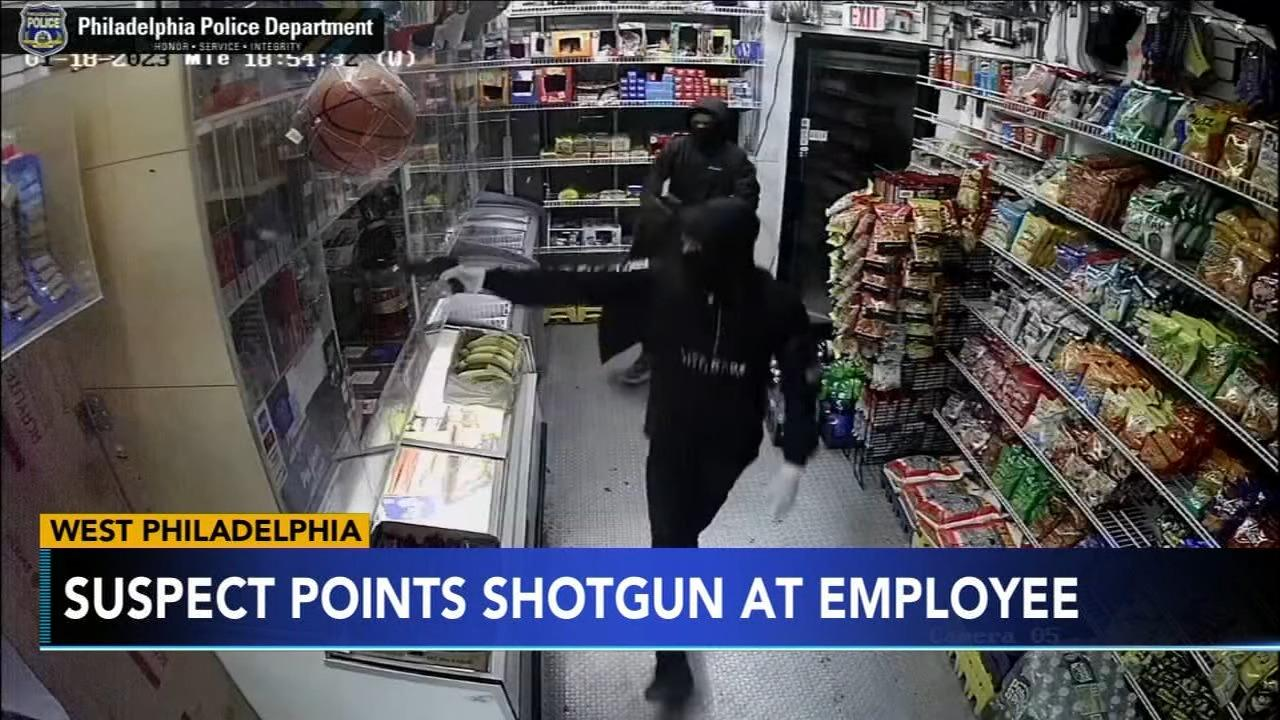pistol: (398, 251, 468, 300)
